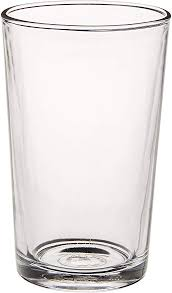glass: (2, 1, 172, 286)
